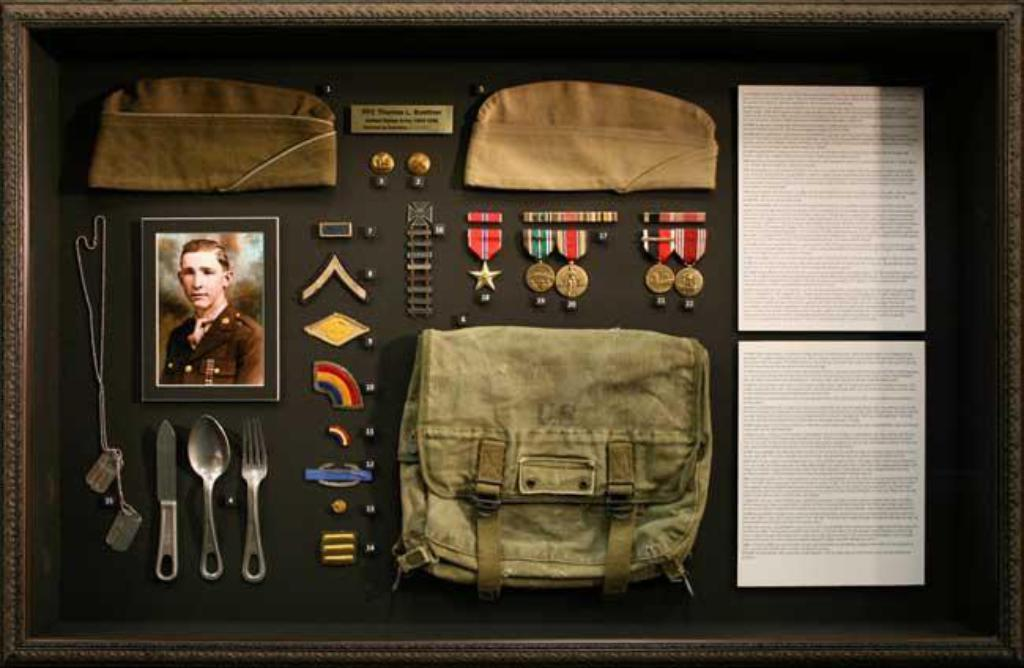Luggage-and-bags: (391, 323, 712, 592)
